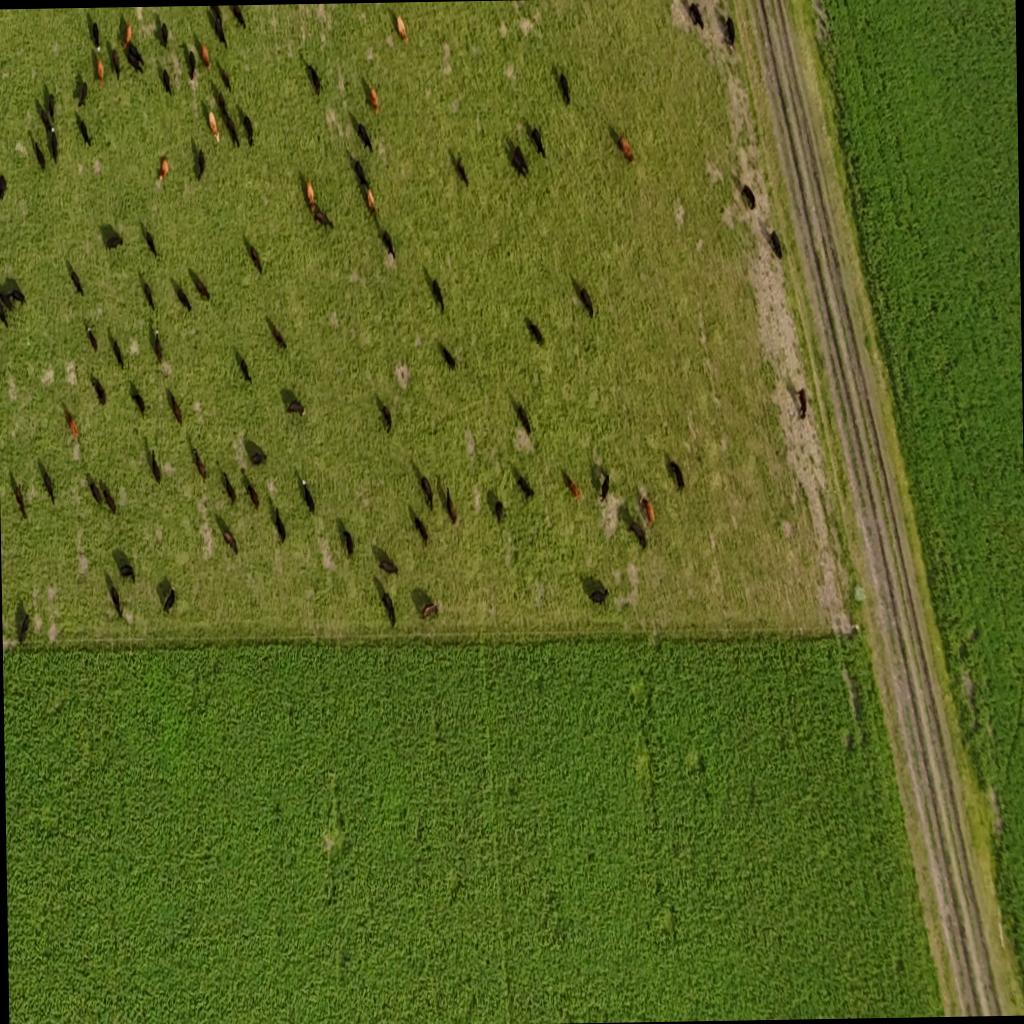cow: (372, 543, 398, 578), (243, 231, 263, 274), (112, 548, 135, 585), (10, 470, 27, 520), (243, 434, 267, 468), (220, 101, 238, 146), (170, 275, 192, 311), (266, 316, 288, 352), (377, 584, 395, 628), (297, 472, 315, 516), (0, 275, 24, 308), (38, 457, 55, 503), (98, 223, 124, 253), (188, 266, 210, 301), (513, 398, 532, 438), (241, 468, 259, 510), (123, 39, 144, 75), (449, 148, 468, 187), (15, 600, 31, 645), (66, 257, 84, 296), (36, 98, 53, 139), (140, 220, 158, 258), (60, 402, 78, 440), (352, 156, 370, 194), (206, 5, 224, 43), (280, 388, 304, 416), (312, 198, 334, 228), (139, 272, 155, 313), (509, 144, 528, 178), (514, 468, 533, 502), (219, 466, 236, 504), (366, 186, 382, 226), (191, 443, 207, 482), (667, 458, 685, 492), (99, 479, 116, 515), (528, 122, 545, 158), (108, 332, 124, 370), (166, 388, 182, 426), (107, 582, 123, 620), (628, 518, 647, 550), (524, 317, 544, 347), (305, 61, 322, 96), (412, 510, 428, 546), (130, 380, 146, 416), (792, 382, 808, 418), (562, 469, 580, 501), (356, 117, 372, 153), (148, 444, 162, 484), (235, 349, 251, 384), (30, 133, 44, 172), (271, 504, 285, 543), (578, 284, 594, 318), (86, 474, 102, 508), (76, 114, 92, 148), (429, 274, 443, 312), (587, 582, 609, 606), (419, 473, 433, 510), (339, 524, 354, 558), (380, 227, 395, 261), (445, 485, 458, 524), (556, 69, 570, 105), (91, 373, 106, 406), (74, 76, 88, 111), (688, 0, 704, 30), (440, 342, 456, 372), (222, 524, 238, 554), (378, 399, 392, 433), (722, 12, 735, 48), (241, 110, 254, 146), (228, 4, 246, 30), (152, 325, 164, 363), (194, 144, 206, 182), (768, 228, 782, 260), (640, 495, 654, 526), (218, 62, 232, 92), (740, 184, 756, 210), (207, 110, 219, 144), (185, 45, 196, 81), (160, 64, 172, 97), (162, 586, 176, 614), (619, 135, 633, 162), (598, 470, 609, 502), (0, 288, 9, 326), (110, 48, 120, 82), (396, 14, 408, 42), (86, 324, 98, 352), (49, 126, 58, 162), (420, 601, 438, 619), (305, 179, 315, 209), (90, 20, 100, 50), (369, 86, 379, 115), (200, 42, 210, 70), (494, 498, 504, 525), (122, 22, 132, 48), (160, 156, 170, 182), (96, 58, 104, 88), (159, 22, 168, 48), (0, 173, 7, 204)
